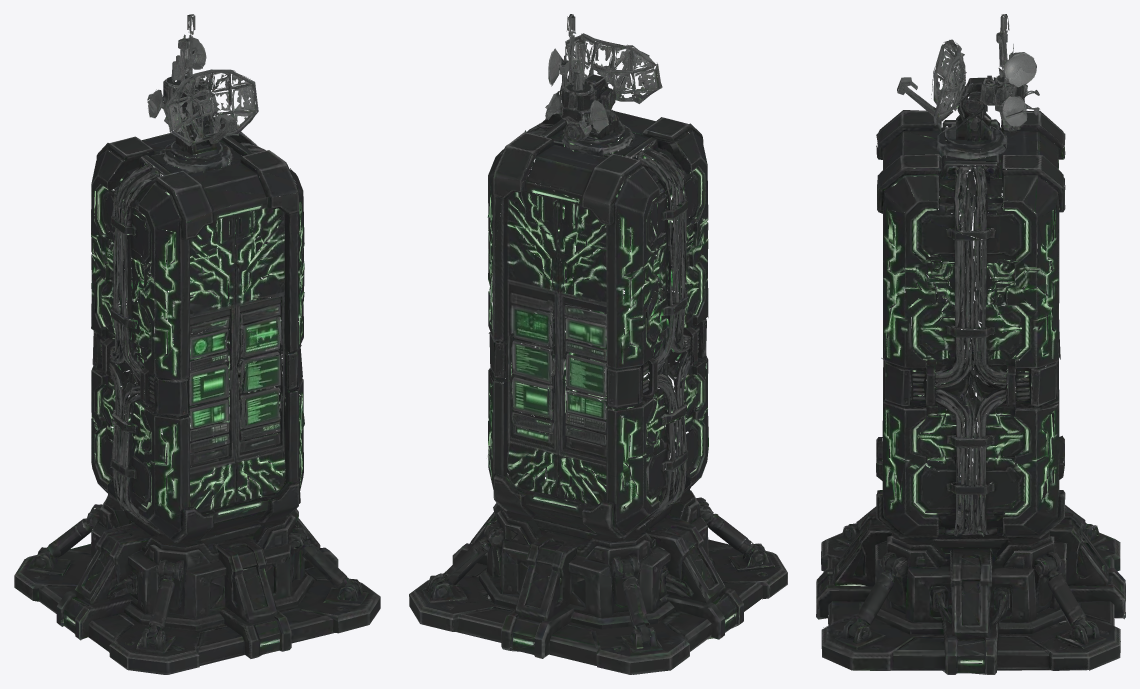
File: tower_uplink_t5.glb
3 views of the same model, side by side, from view 1: azimuth 30°, elevation 25°; view 2: azimuth 150°, elevation 25°; view 3: azimuth 270°, elevation 25° (orthographic). The views are drawn at different scales.
Visible parts, largest first — view 1: base, head; view 2: base, head; view 3: base, head.
Boxes of the visible parts, x1=… form: base: x1=14, y1=93, x2=380, y2=674; head: x1=152, y1=14, x2=258, y2=133; base: x1=409, y1=68, x2=787, y2=674; head: x1=548, y1=14, x2=662, y2=113; base: x1=816, y1=72, x2=1125, y2=674; head: x1=897, y1=14, x2=1036, y2=116.
Size of the model in its own units: 0.827 by 1.75 by 0.8166.
1 material, 1 textured.
